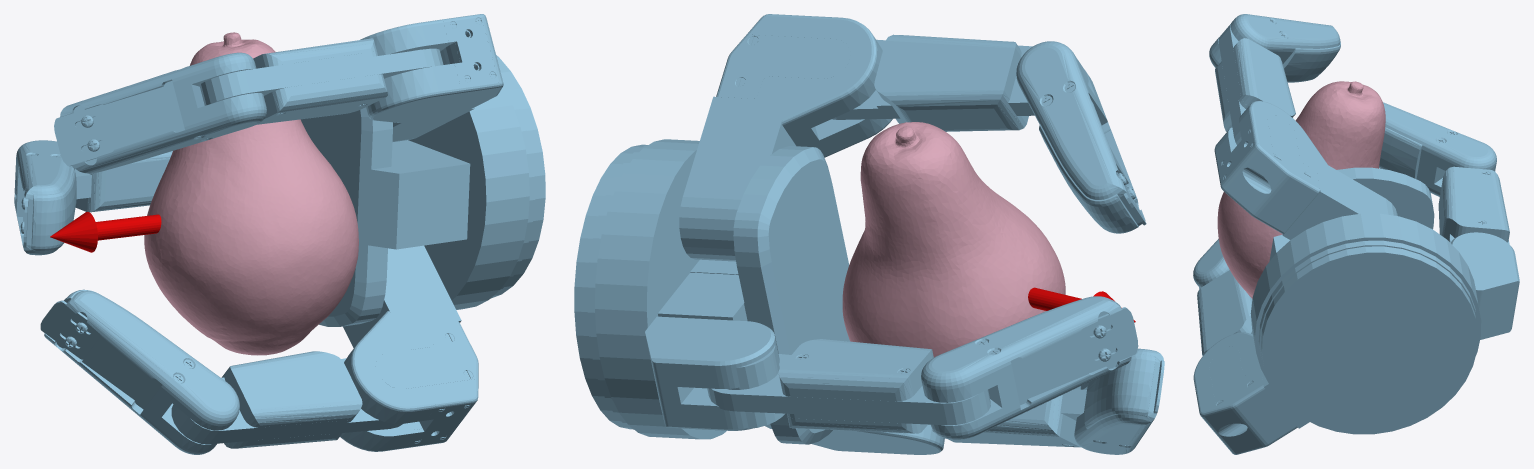
The picture shows the model from 3 angles, left to right: view 1: azimuth 30°, elevation 25°; view 2: azimuth 150°, elevation 25°; view 3: azimuth 270°, elevation 25°; orthographic projection. The views are drawn at different scales.
Parts seen in each view (by area): view 1: world, pear.stl; view 2: world, pear.stl; view 3: world, pear.stl.
Boxes of the visible parts, x1,y1,x2,y2 form: world: (14, 14, 545, 454); pear.stl: (144, 32, 358, 355); world: (574, 14, 1164, 454); pear.stl: (842, 122, 1065, 357); world: (1193, 14, 1519, 454); pear.stl: (1217, 81, 1385, 298).
Size of the model in its own units: 0.176 by 0.1531 by 0.1278.
